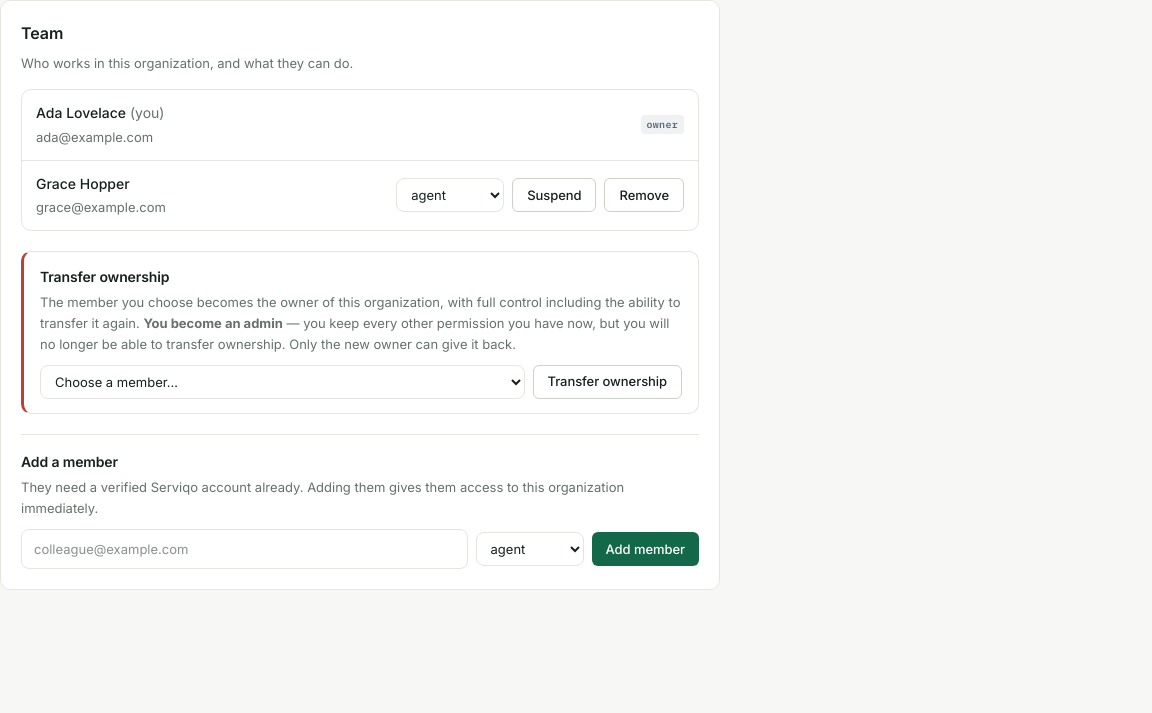
member status controls › confirmation › asks before suspending, and names the person and the consequence
The image size is (1152, 713).
Expected: the text "Grace Hopper" is shown, top-left (36, 175), bottom-right (130, 192)
What coordinates should you click on to do the following:
click the button "Suspend"
I would click on:
 (554, 195)
Its box is top-left (512, 178), bottom-right (596, 212).
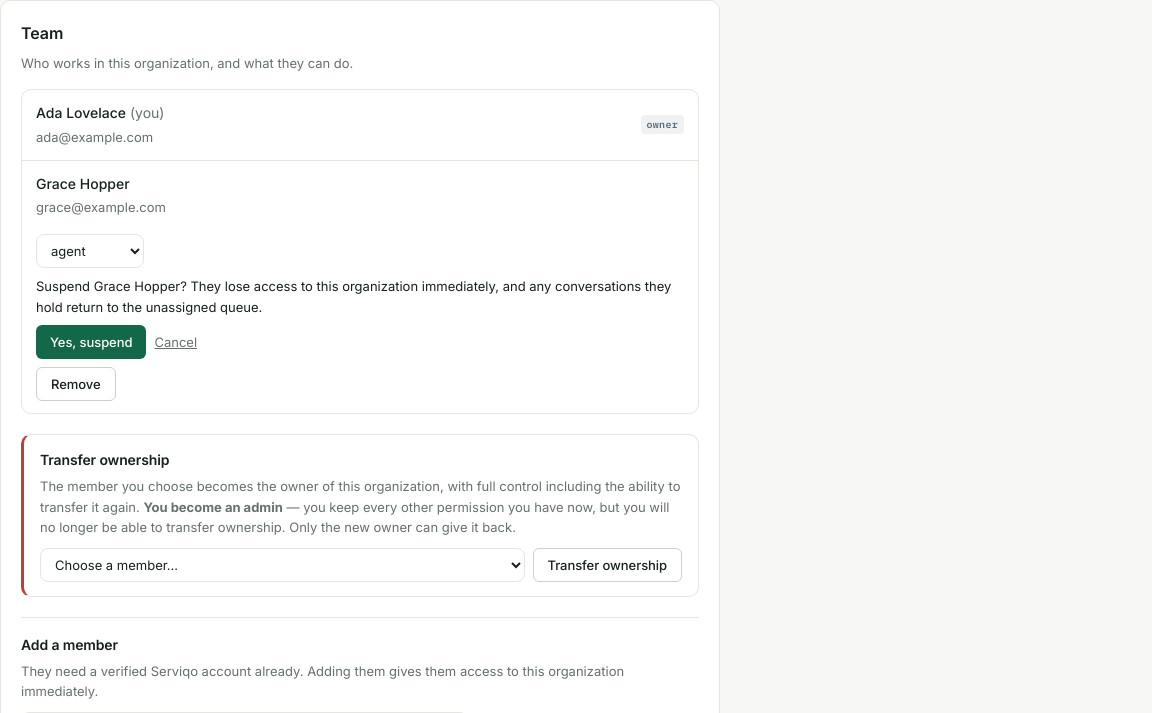
Result: the dialog named "confirm suspension" shows "Grace Hopper" at top-left (94, 278), bottom-right (180, 294)
Result: the dialog named "confirm suspension" shows "lose access to this organization immediately" at top-left (36, 278), bottom-right (671, 315)
Result: the dialog named "confirm suspension" shows "unassigned queue" at top-left (36, 278), bottom-right (671, 315)
